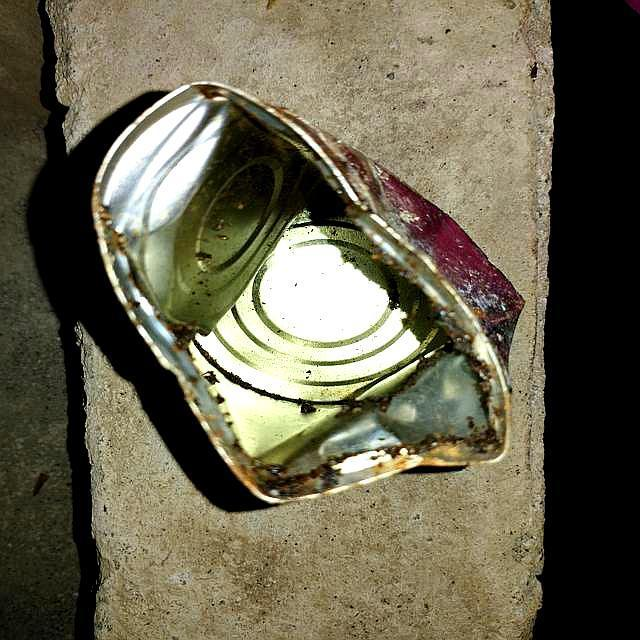Non-biodegradable: (90, 79, 527, 507)
